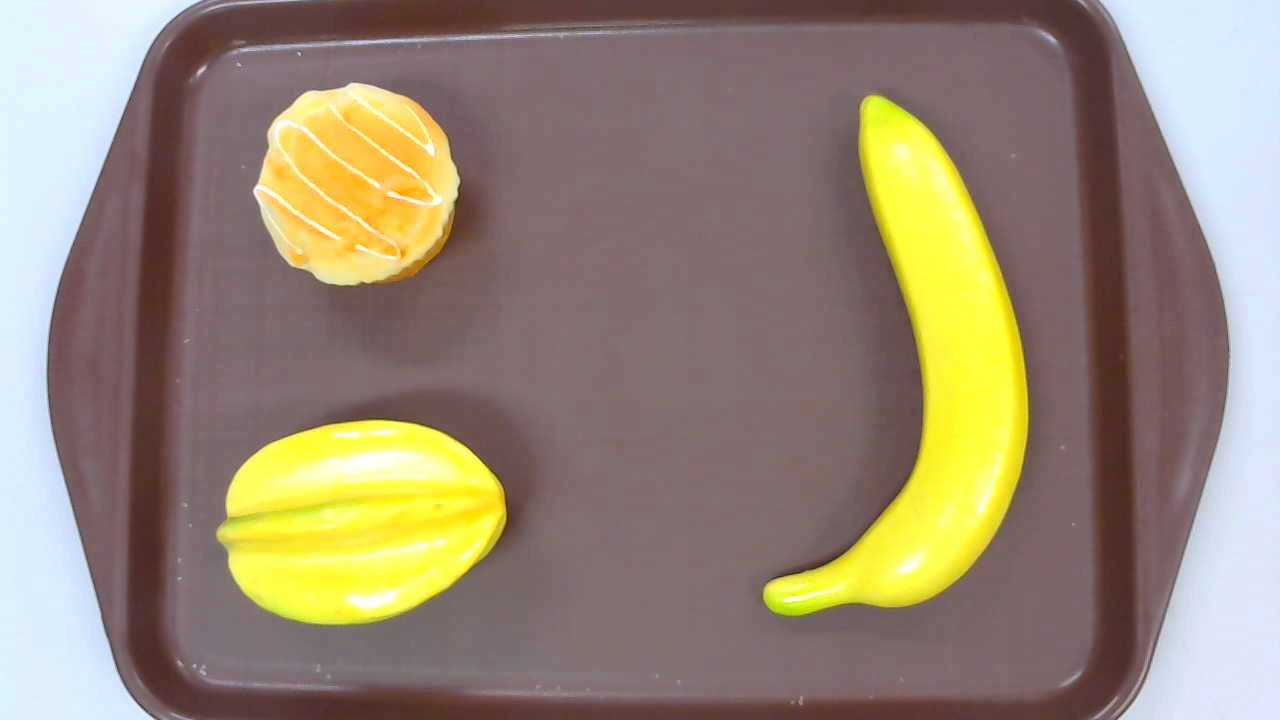banana: (761, 93, 1030, 616)
cupcake: (253, 81, 461, 289)
star fruit: (214, 417, 506, 624)
